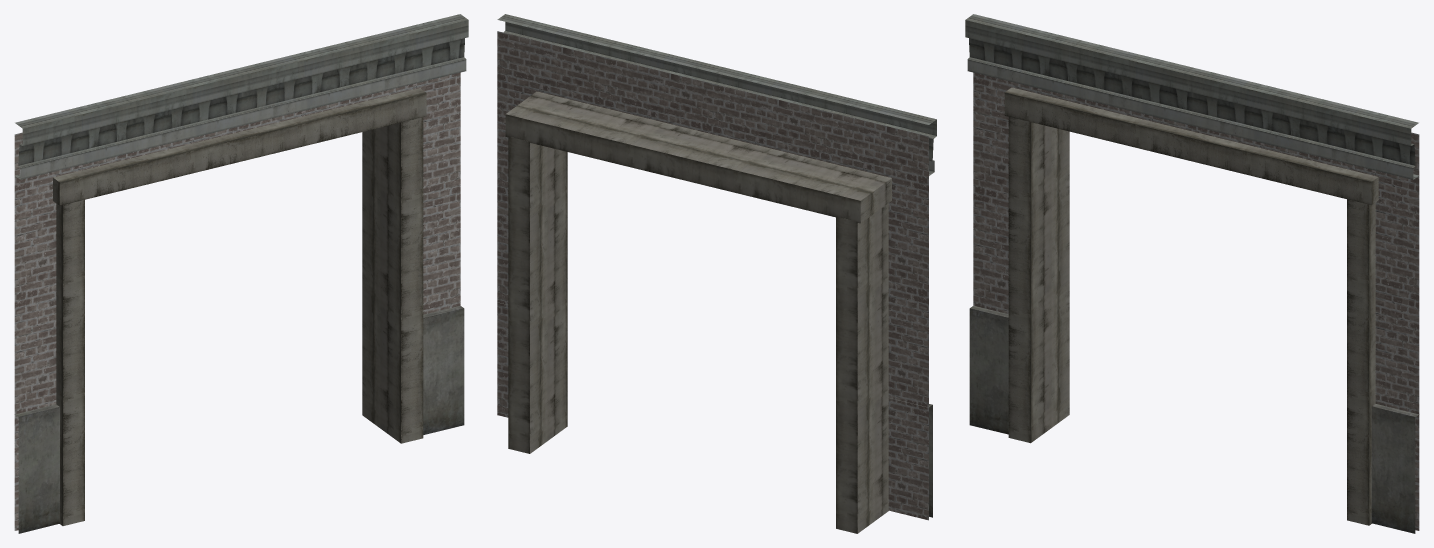
Rendered from W_C_DoorOpen_4x.FBX.
The picture shows the model from 3 angles, left to right: view 1: azimuth 30°, elevation 25°; view 2: azimuth 150°, elevation 25°; view 3: azimuth 330°, elevation 25°; orthographic projection. The views are drawn at different scales.
Parts seen in each view (by area): view 1: W_C_DoorOpen_4x; view 2: W_C_DoorOpen_4x; view 3: W_C_DoorOpen_4x.
Part boxes in pixels (<box>): W_C_DoorOpen_4x: <box>14,14,468,533</box>; W_C_DoorOpen_4x: <box>497,14,936,533</box>; W_C_DoorOpen_4x: <box>965,14,1419,533</box>.
Bounding box in the file's own units: 400 × 350 × 62.82.
